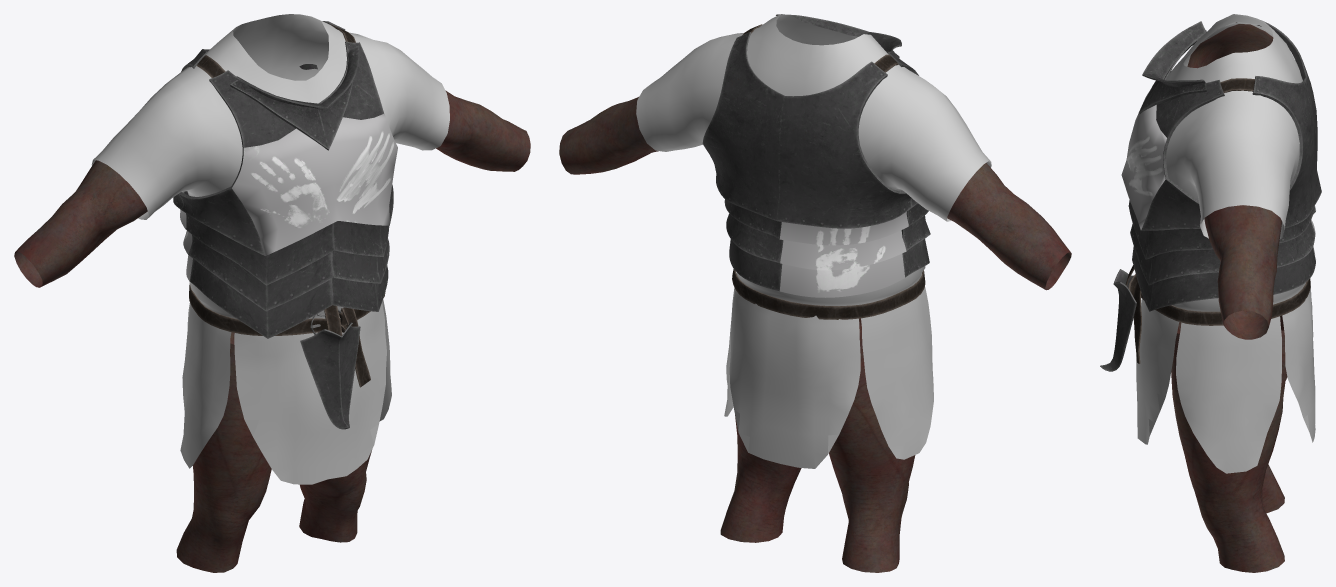
Rendered from sk_uruk_hai_plate_elite_a3.fbx.
The picture shows the model from 3 angles, left to right: view 1: azimuth 30°, elevation 25°; view 2: azimuth 150°, elevation 25°; view 3: azimuth 270°, elevation 25°; orthographic projection. The views are drawn at different scales.
Parts seen in each view (by area): view 1: sk_uruk_hai_plate_elite_a3.0, sk_uruk_hai_plate_elite_a3.2, sk_uruk_hai_plate_elite_a3.3, sk_uruk_hai_plate_elite_a3.body.0, sk_uruk_hai_plate_elite_a3.body.1, sk_uruk_hai_plate_elite_a3.1; view 2: sk_uruk_hai_plate_elite_a3.0, sk_uruk_hai_plate_elite_a3.2, sk_uruk_hai_plate_elite_a3.body.0, sk_uruk_hai_plate_elite_a3.body.1, sk_uruk_hai_plate_elite_a3.3, sk_uruk_hai_plate_elite_a3.1; view 3: sk_uruk_hai_plate_elite_a3.0, sk_uruk_hai_plate_elite_a3.2, sk_uruk_hai_plate_elite_a3.body.0, sk_uruk_hai_plate_elite_a3.body.1, sk_uruk_hai_plate_elite_a3.3, sk_uruk_hai_plate_elite_a3.1.
Part boxes in pixels (x1,y1,x2,y2): sk_uruk_hai_plate_elite_a3.0: (91, 14, 449, 484); sk_uruk_hai_plate_elite_a3.2: (173, 21, 393, 429); sk_uruk_hai_plate_elite_a3.3: (180, 113, 397, 281); sk_uruk_hai_plate_elite_a3.body.0: (176, 332, 371, 572); sk_uruk_hai_plate_elite_a3.body.1: (14, 90, 530, 287); sk_uruk_hai_plate_elite_a3.1: (189, 24, 385, 387); sk_uruk_hai_plate_elite_a3.0: (636, 14, 991, 468); sk_uruk_hai_plate_elite_a3.2: (702, 14, 930, 291); sk_uruk_hai_plate_elite_a3.body.0: (720, 318, 915, 572); sk_uruk_hai_plate_elite_a3.body.1: (559, 97, 1071, 290); sk_uruk_hai_plate_elite_a3.3: (779, 211, 908, 297); sk_uruk_hai_plate_elite_a3.1: (732, 24, 925, 319); sk_uruk_hai_plate_elite_a3.0: (1136, 14, 1315, 473); sk_uruk_hai_plate_elite_a3.2: (1100, 20, 1321, 371); sk_uruk_hai_plate_elite_a3.body.0: (1171, 315, 1287, 572); sk_uruk_hai_plate_elite_a3.body.1: (1187, 24, 1282, 339); sk_uruk_hai_plate_elite_a3.3: (1121, 91, 1315, 253); sk_uruk_hai_plate_elite_a3.1: (1125, 22, 1310, 363).
Size of the model in its own units: 1.2 by 0.4776 by 1.19.
